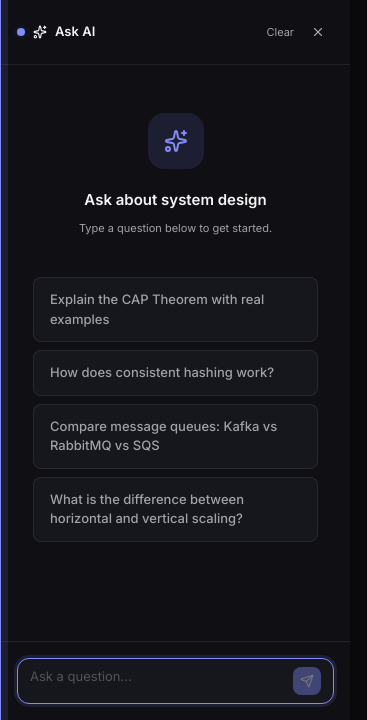
Test: Adversarial & Edge Case Tests for ChatPanel › handles window.localStorage throwing errors (e.g. disabled third-party storage)
Expected: the text "Ask about system design" is shown, x1=84 y1=189 x2=267 y2=212
// Sending a message should work and not crash when trying to save
Type "Test message when storage blocked" into the text box with placeholder "Ask a question..." at (158, 681), box x1=30 y1=667 x2=285 y2=695
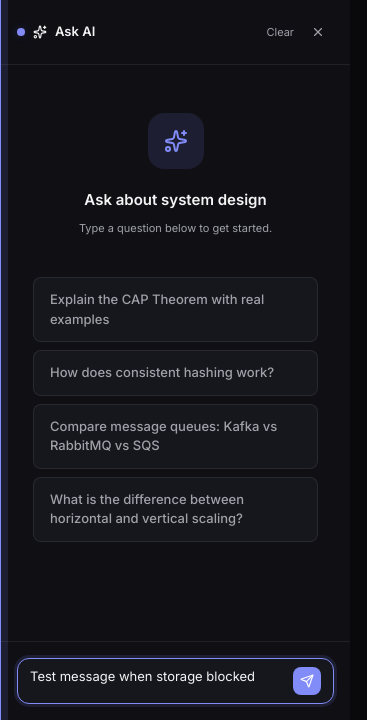
Click the button named "Send message" at (307, 681), box x1=293 y1=667 x2=321 y2=695
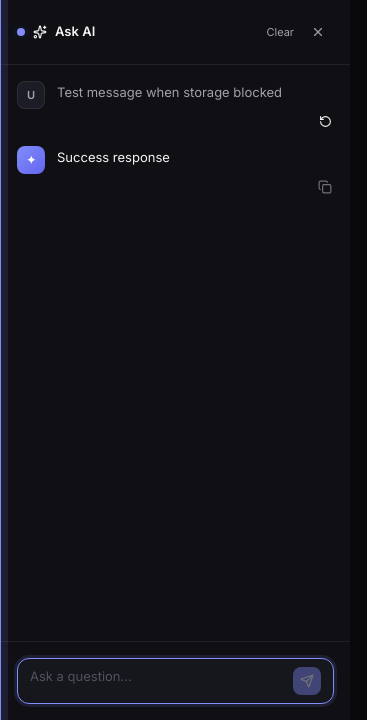
Expected: the text "Success response" is shown, x1=57 y1=149 x2=170 y2=165
